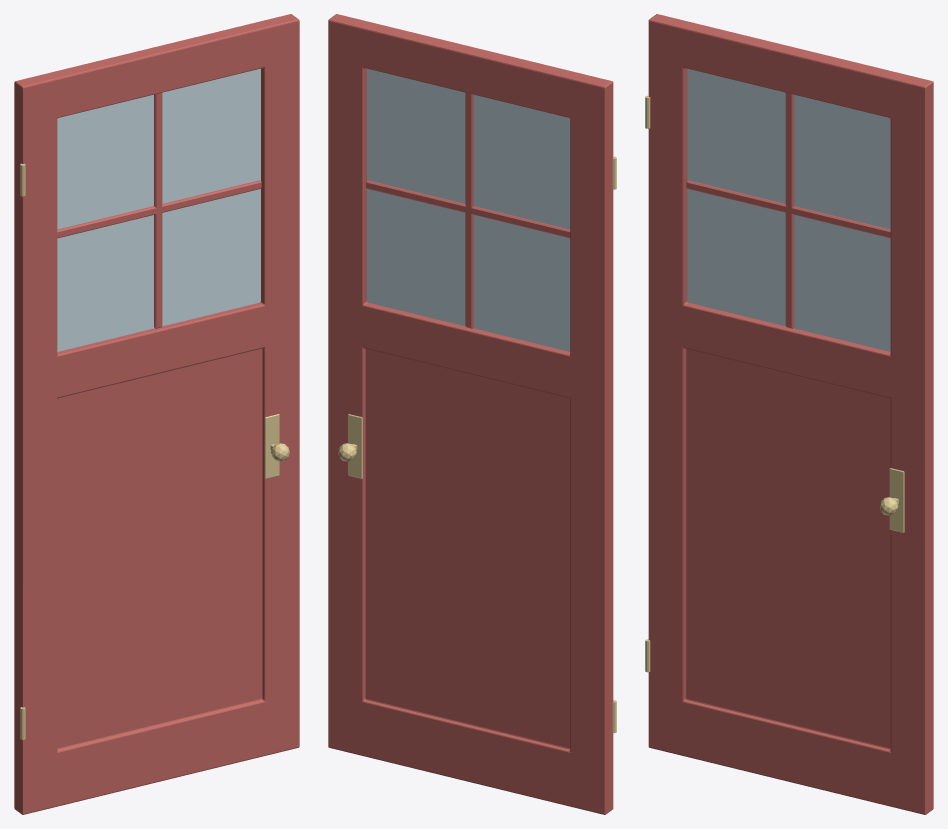
Rendered from door_leaf_front.glb.
3 renders of one model, left to right at view 1: azimuth 30°, elevation 25°; view 2: azimuth 150°, elevation 25°; view 3: azimuth 330°, elevation 25°, orthographic.
Visible parts, largest first — view 1: door_leaf_front_door, door_leaf_front_glass, door_leaf_front_brass; view 2: door_leaf_front_door, door_leaf_front_glass, door_leaf_front_brass; view 3: door_leaf_front_door, door_leaf_front_glass, door_leaf_front_brass.
Part boxes in pixels (left/top/right/bottom): door_leaf_front_door: left=14, top=14, right=299, bottom=814; door_leaf_front_glass: left=57, top=68, right=260, bottom=351; door_leaf_front_brass: left=20, top=163, right=289, bottom=739; door_leaf_front_door: left=328, top=14, right=613, bottom=814; door_leaf_front_glass: left=367, top=68, right=570, bottom=351; door_leaf_front_brass: left=338, top=156, right=616, bottom=733; door_leaf_front_door: left=648, top=14, right=933, bottom=814; door_leaf_front_glass: left=687, top=68, right=890, bottom=351; door_leaf_front_brass: left=645, top=95, right=904, bottom=672.
Size of the model in its own units: 0.948 by 2.36 by 0.206.
